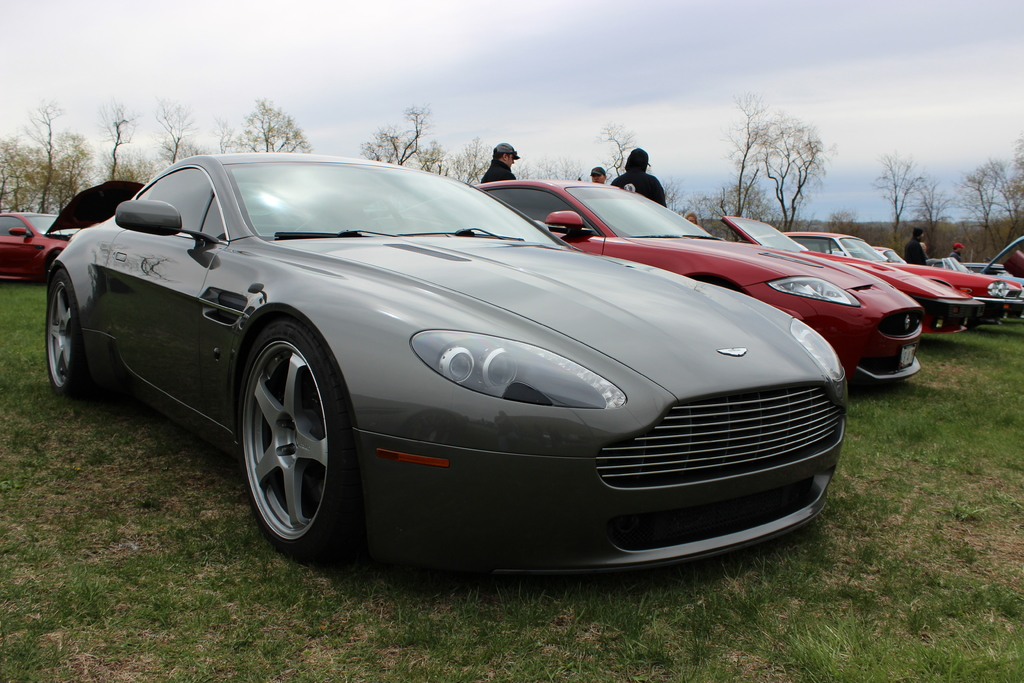mobil: (28, 157, 851, 576)
